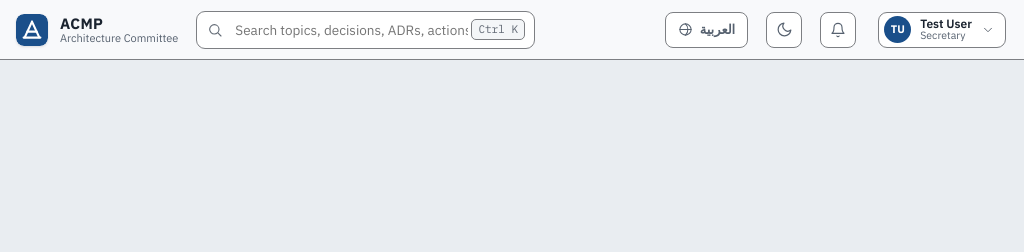
Test: TopBar profile menu › offers Profile & preferences above Log out and navigates to /profile, closing the menu
Click the button with aria-label "account menu". click: (942, 30)
box: [878, 12, 1006, 48]
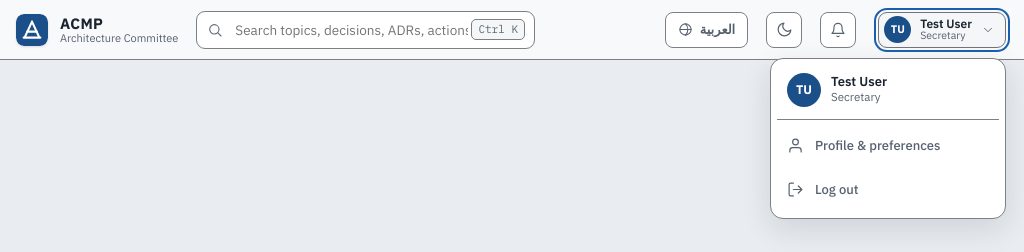
Now the menu items read "Profile & preferences", "Log out", in this order
Click the menu item "Profile & preferences". click: (888, 146)
box: [777, 124, 999, 168]
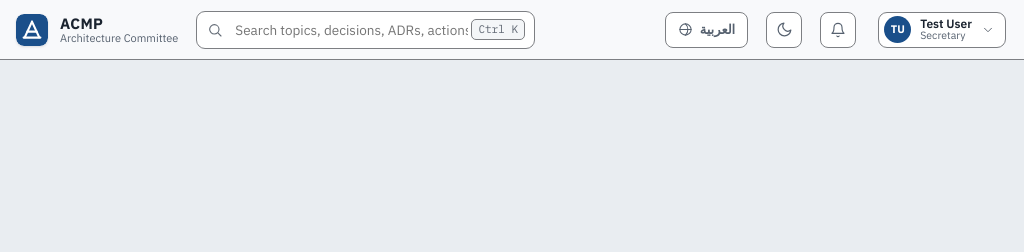
Now the menu is gone
